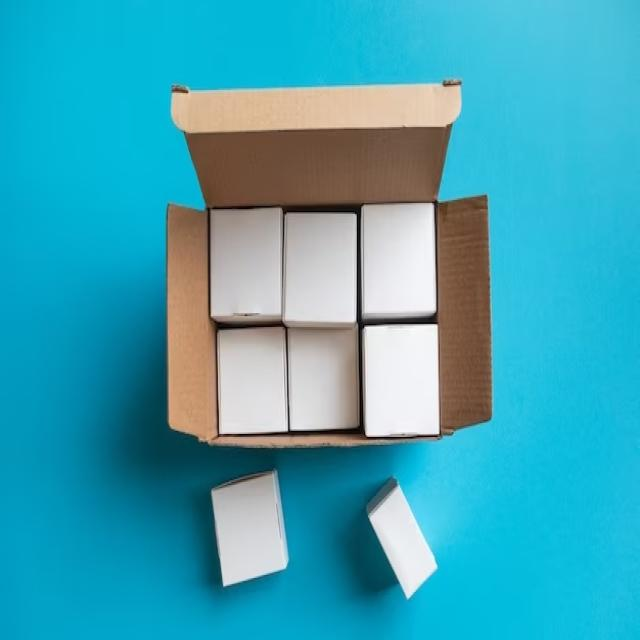Carton: (361, 203, 437, 313), (211, 474, 284, 586), (281, 212, 355, 321), (366, 325, 439, 435), (216, 325, 286, 434), (209, 209, 280, 316), (369, 485, 435, 595), (286, 329, 357, 429)
